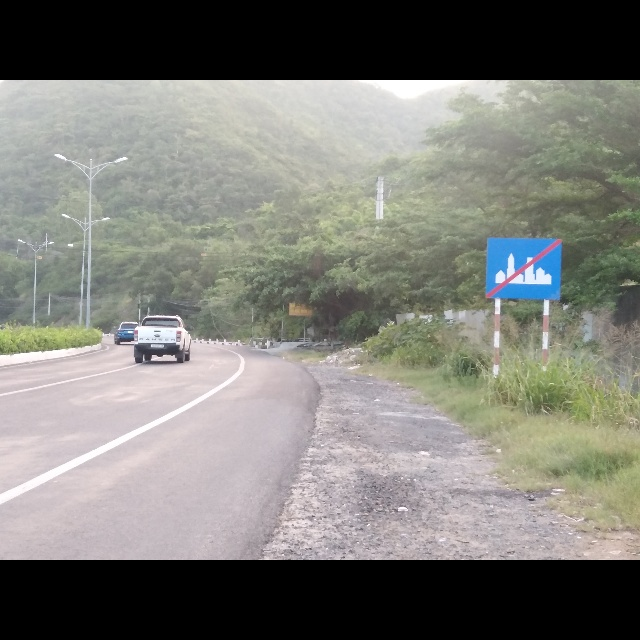Hết khu đông dân cư: (484, 234, 563, 301)
